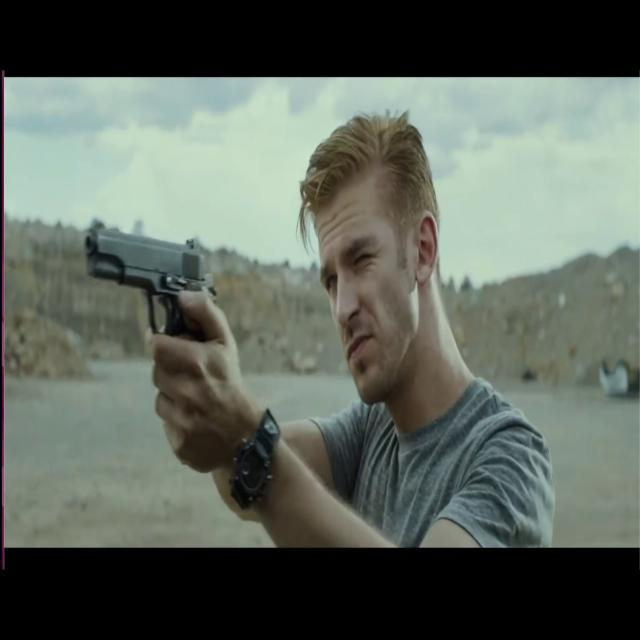weapons: (76, 199, 225, 379)
